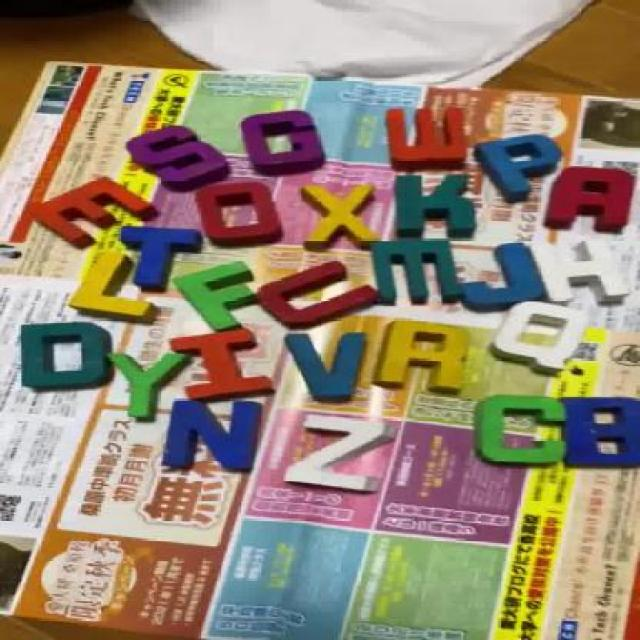A: (536, 166, 638, 231)
B: (558, 395, 639, 468)
C: (482, 396, 566, 466)
D: (18, 322, 110, 386)
E: (38, 176, 158, 247)
F: (173, 262, 259, 332)
G: (238, 106, 322, 176)
H: (532, 242, 630, 304)
I: (178, 331, 271, 395)
J: (464, 242, 542, 312)
K: (383, 175, 483, 237)
L: (70, 255, 152, 322)
M: (366, 241, 459, 307)
N: (163, 399, 266, 478)
O: (194, 184, 286, 244)
P: (476, 133, 561, 196)
Q: (490, 302, 584, 370)
R: (381, 319, 476, 395)
S: (127, 124, 228, 188)
T: (111, 226, 200, 292)
U: (259, 260, 378, 331)
V: (280, 334, 372, 397)
W: (380, 105, 478, 170)
X: (292, 181, 383, 248)
Y: (111, 355, 180, 417)
Z: (292, 411, 398, 495)
